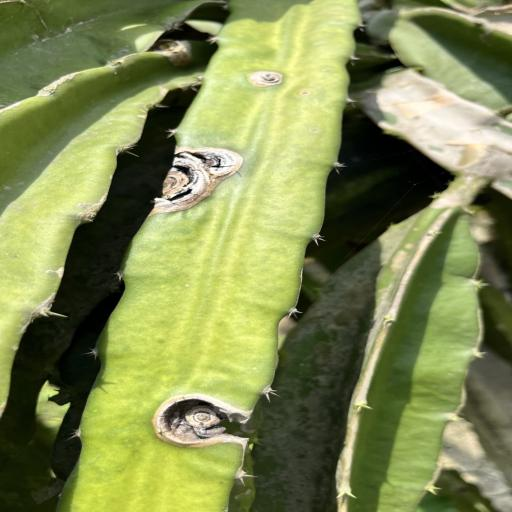stemcanker: (0, 180, 41, 204), (288, 84, 322, 104), (66, 198, 96, 213), (292, 88, 323, 102), (302, 125, 326, 141), (33, 267, 61, 277), (24, 32, 46, 42), (4, 340, 22, 352), (69, 201, 92, 209), (296, 89, 314, 98), (40, 267, 56, 276), (0, 185, 12, 192), (7, 345, 20, 351)
